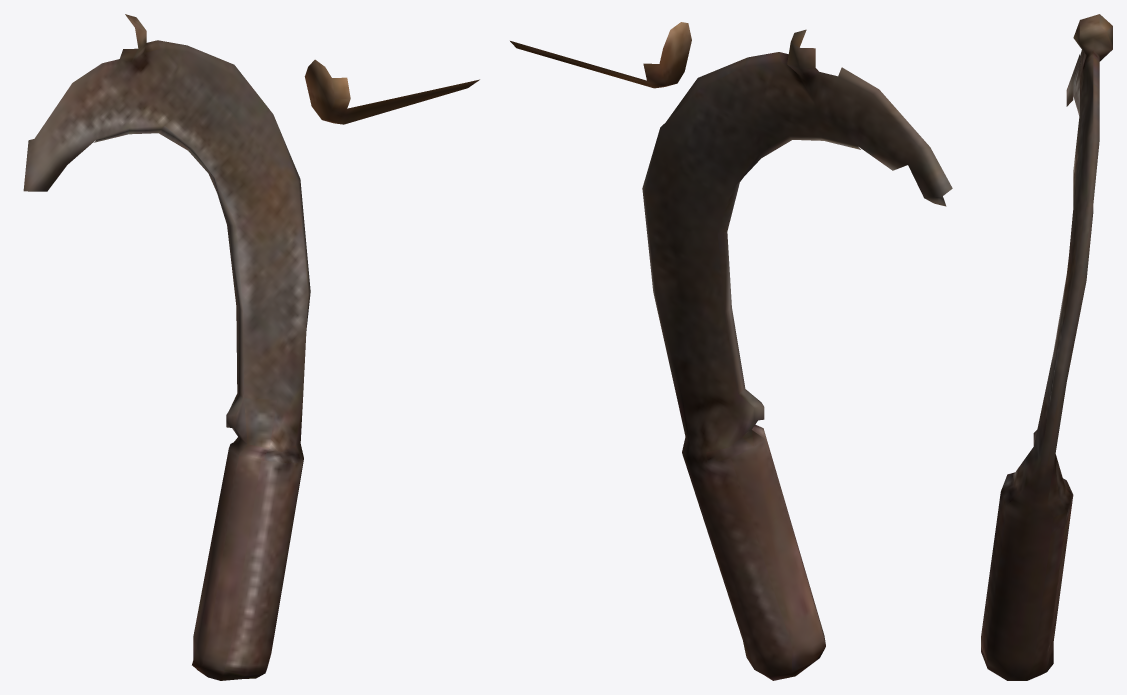
Rendered from liem.glb.
The picture shows the model from 3 angles, left to right: view 1: azimuth 30°, elevation 25°; view 2: azimuth 150°, elevation 25°; view 3: azimuth 270°, elevation 25°; orthographic projection. The views are drawn at different scales.
Size of the model in its own units: 0.1406 by 0.2051 by 0.0391.
1 material, 1 textured.
